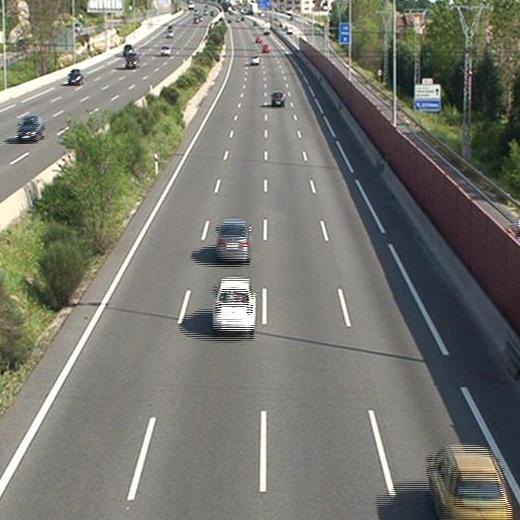car: (429, 448, 510, 519), (213, 279, 256, 330), (216, 221, 247, 259), (271, 92, 285, 106), (248, 56, 258, 65)
